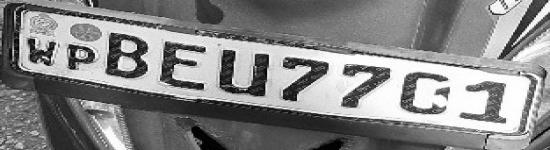0: (394, 68, 453, 118)
1: (452, 76, 513, 126)
7: (278, 54, 333, 105), (336, 62, 394, 106)
B: (104, 32, 152, 82)
E: (157, 39, 209, 91)
P: (65, 42, 101, 72)
U: (217, 48, 273, 99)
W: (25, 35, 60, 68)
